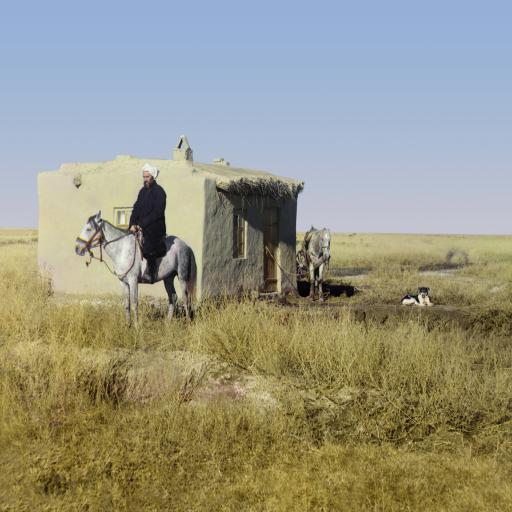horse: (72, 208, 200, 330), (304, 224, 330, 303)
